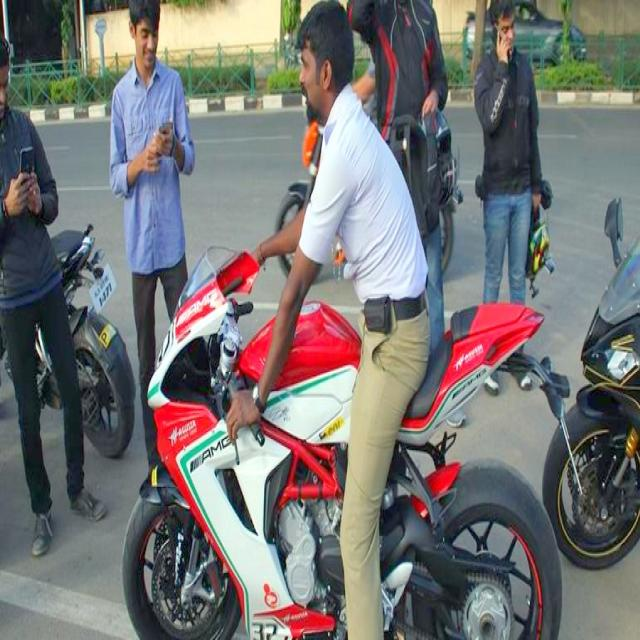motorcycle: (122, 2, 561, 638), (542, 197, 640, 567)
